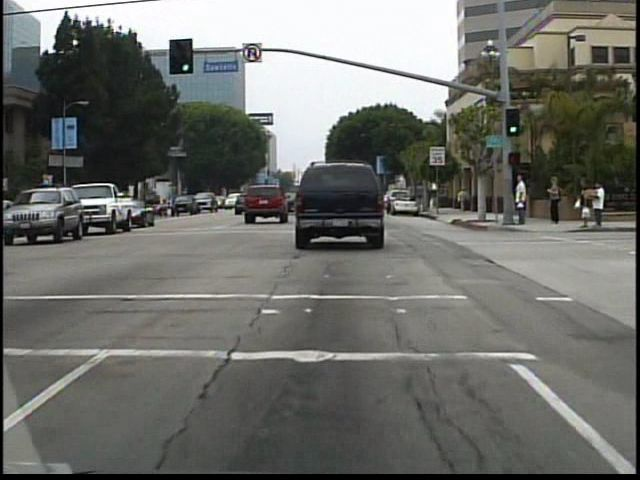person: (510, 170, 530, 228), (544, 174, 563, 227), (454, 184, 469, 214), (421, 184, 433, 212)
